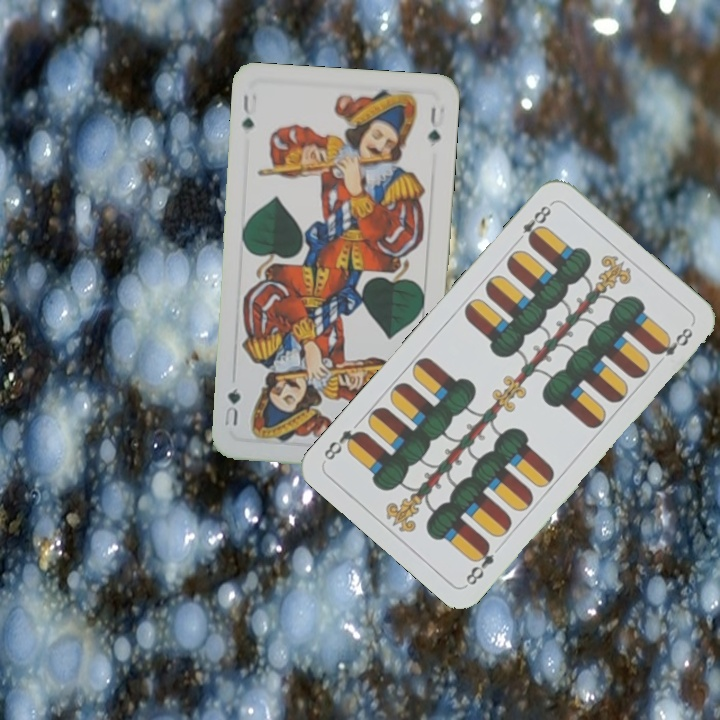E8: (511, 200, 556, 247), (461, 538, 497, 588)
GU: (238, 90, 256, 131)
